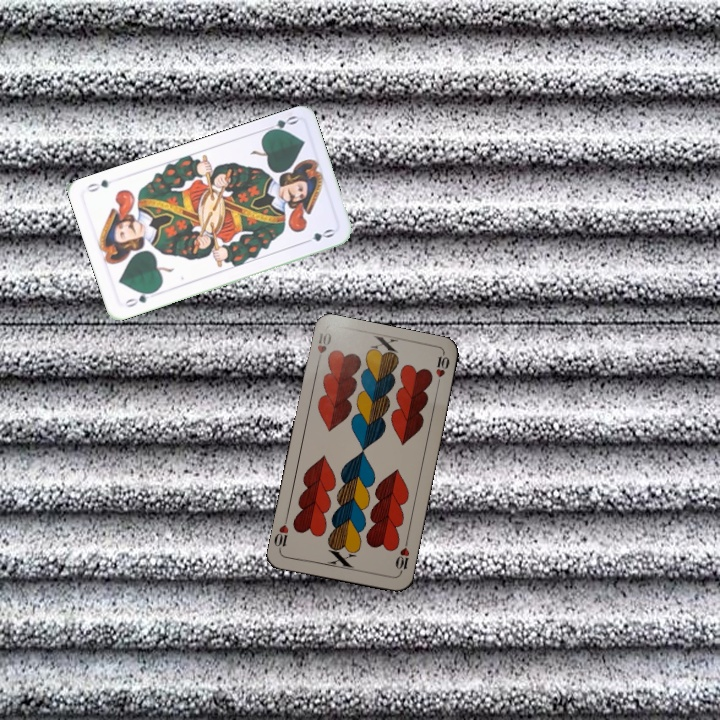GO: (260, 111, 300, 136), (121, 287, 158, 310)
H10: (391, 536, 412, 577), (313, 328, 334, 368)
